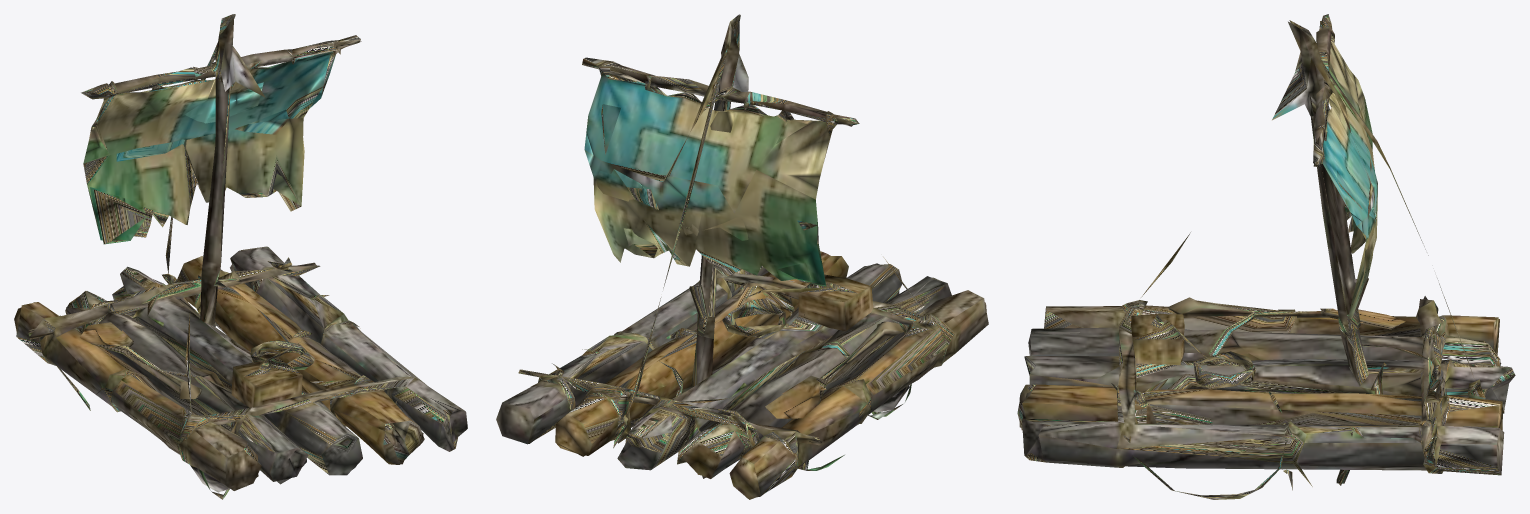
File: sw-raft-lite.glb
The picture shows the model from 3 angles, left to right: view 1: azimuth 30°, elevation 25°; view 2: azimuth 150°, elevation 25°; view 3: azimuth 270°, elevation 25°; orthographic projection. The views are drawn at different scales.
Visible parts, largest first — view 1: geometry_0; view 2: geometry_0; view 3: geometry_0.
Part boxes in pixels (box(x1,y1,x2,y2)): geometry_0: box(14, 14, 467, 499); geometry_0: box(496, 14, 988, 499); geometry_0: box(1017, 14, 1515, 499).
Bounding box in the file's own units: 0.5822 × 0.8246 × 0.8121.
1 material, 1 textured.
